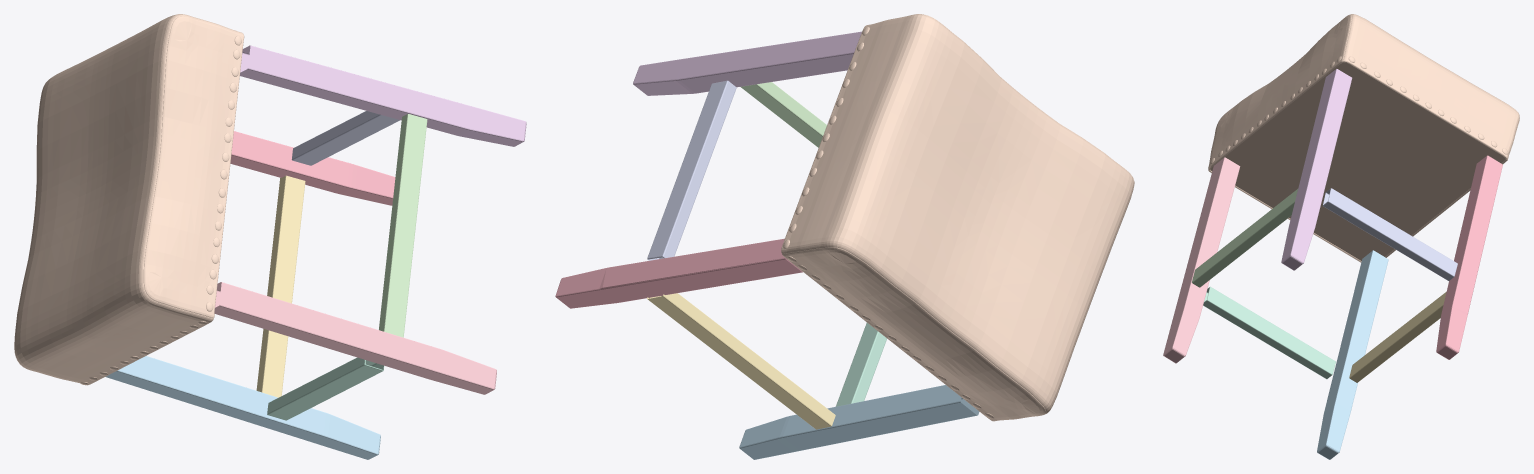
The model's file is view_assembly_-1_colored.glb.
The picture shows the model from 3 angles, left to right: view 1: azimuth 30°, elevation 25°; view 2: azimuth 150°, elevation 25°; view 3: azimuth 270°, elevation 25°; orthographic projection. The views are drawn at different scales.
Parts seen in each view (by area): view 1: world; view 2: world; view 3: world.
Boxes of the visible parts, x1,y1,x2,y2 form: world: [14, 14, 526, 459]; world: [555, 14, 1134, 459]; world: [1163, 14, 1519, 459].
Size of the model in its own units: 0.9999 by 1.01 by 0.8655.
